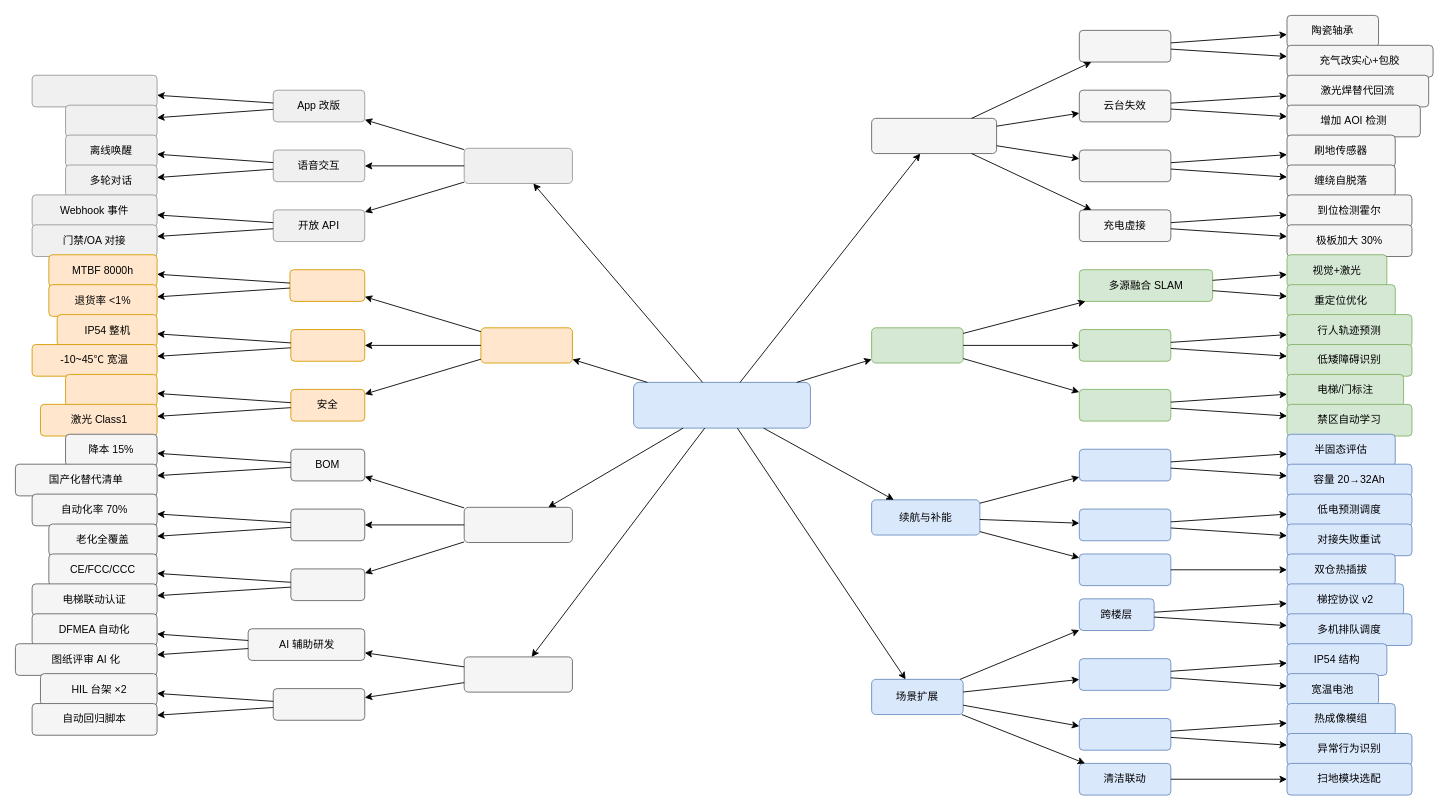
The diagram is 1448 pixels wide and 810 high, and some of its shapes have lost their labels. The box of each missing label's shape, as (x1, y1, x2, y2) in pixels:
一代痛点复盘: (871, 117, 997, 154)
一键召回: (65, 104, 157, 137)
二代巡检机器人 2026 Q2 立项 · 45+ 规划项: (633, 381, 810, 428)
体验与服务: (463, 147, 572, 183)
制造: (290, 508, 365, 541)
动态避障: (1078, 329, 1171, 361)
双路急停: (65, 374, 157, 406)
可靠性: (289, 269, 365, 301)
回充优化: (1078, 508, 1171, 541)
团队与工具: (463, 656, 572, 692)
地图实时可视: (31, 74, 157, 107)
地毯场景: (1078, 149, 1171, 182)
安防巡逻: (1078, 718, 1171, 750)
导航升级: (871, 327, 963, 363)
成本与交付: (463, 506, 572, 543)
户外园区: (1078, 658, 1171, 690)
换电方案: (1078, 553, 1171, 586)
测试体系: (272, 688, 365, 720)
环境: (290, 329, 365, 361)
电池升级: (1078, 448, 1171, 481)
认证: (290, 568, 365, 601)
语义地图: (1078, 389, 1171, 421)
质量目标: (480, 327, 572, 363)
轮组耐磨: (1078, 29, 1171, 62)
